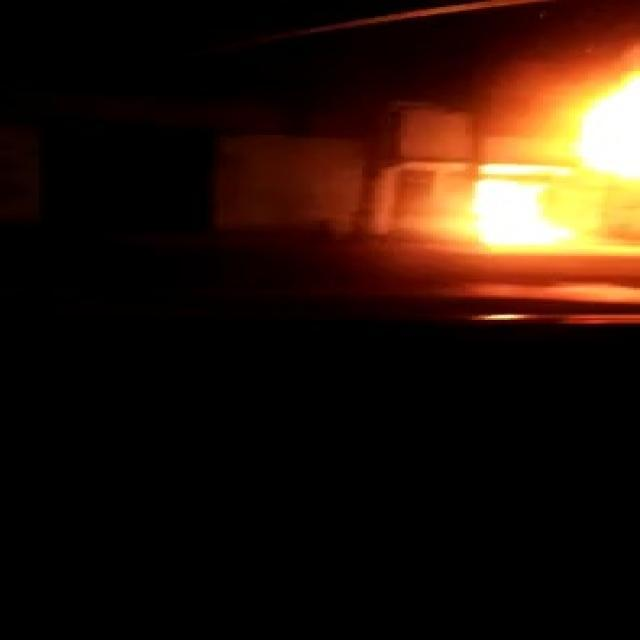Fire: (458, 73, 635, 244)
